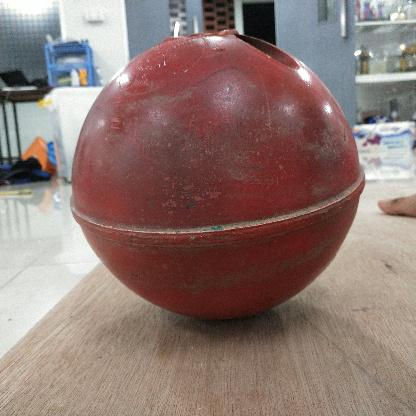red_buoy: (69, 31, 367, 320)
